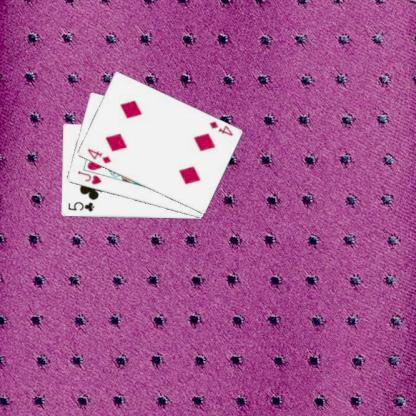4D: (84, 145, 112, 165), (206, 118, 234, 137)
5C: (65, 199, 95, 213)
JH: (74, 168, 102, 186)
